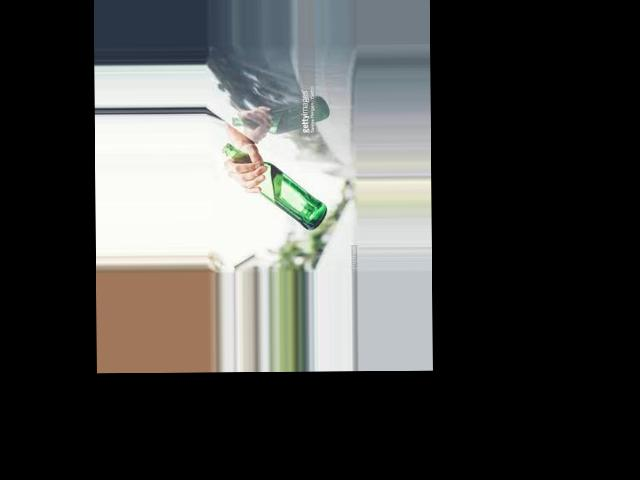beer: (224, 140, 327, 230)
